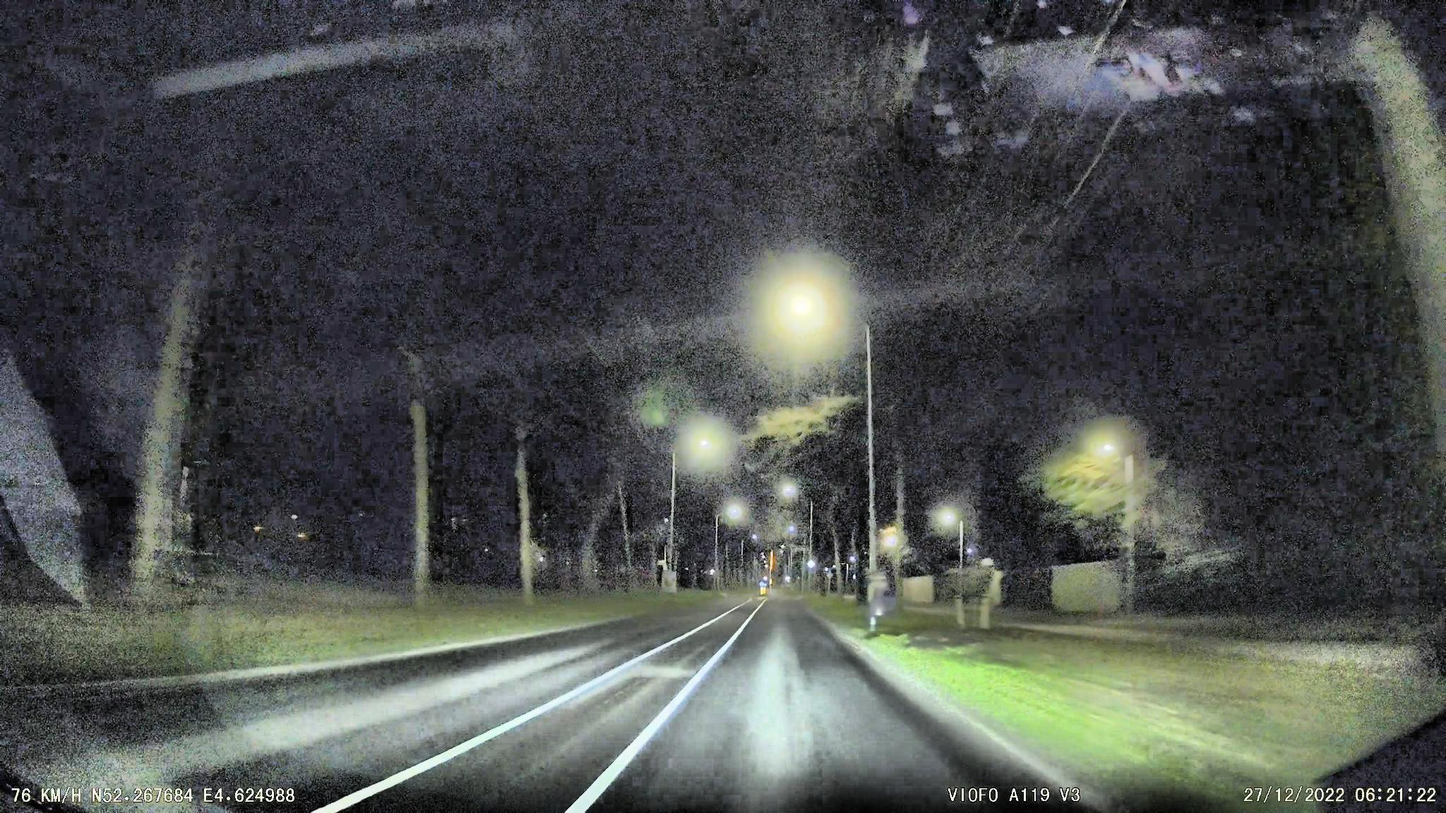Roads: (0, 595, 1130, 813)
